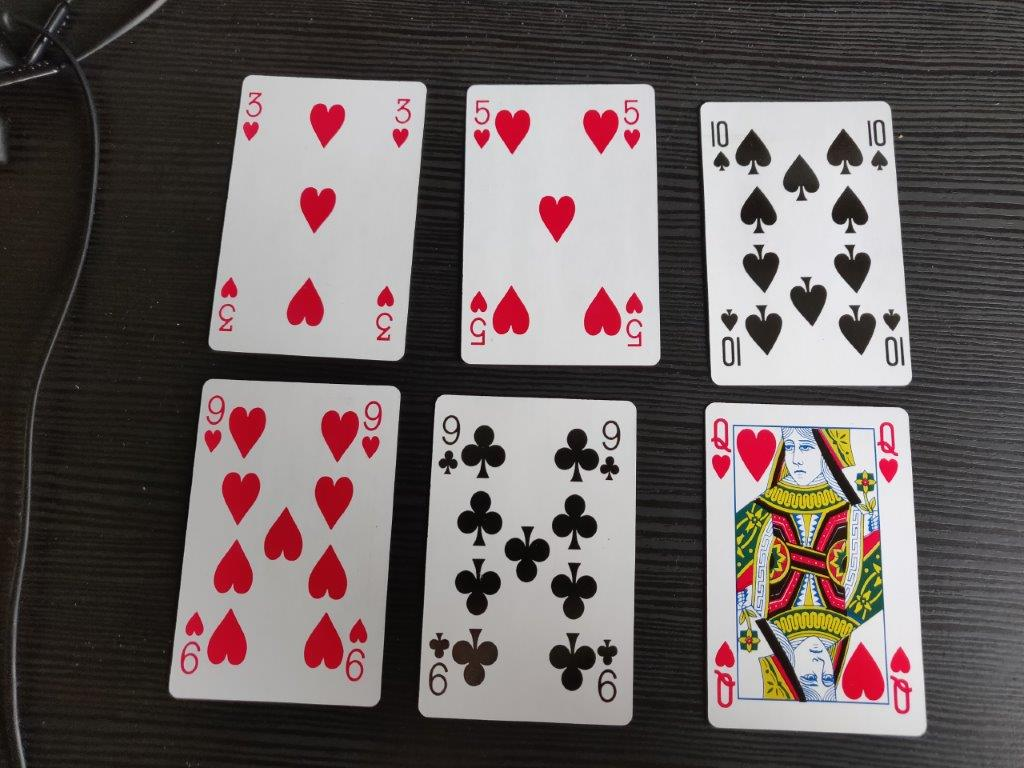10S: (861, 114, 893, 175), (704, 115, 735, 174)
3H: (238, 86, 267, 144), (388, 92, 415, 152)
5H: (618, 93, 645, 150), (468, 97, 496, 151)
9C: (595, 415, 623, 486), (435, 409, 462, 476)
9H: (357, 393, 384, 461), (199, 393, 226, 454)
QH: (872, 418, 904, 489), (706, 414, 736, 484)
